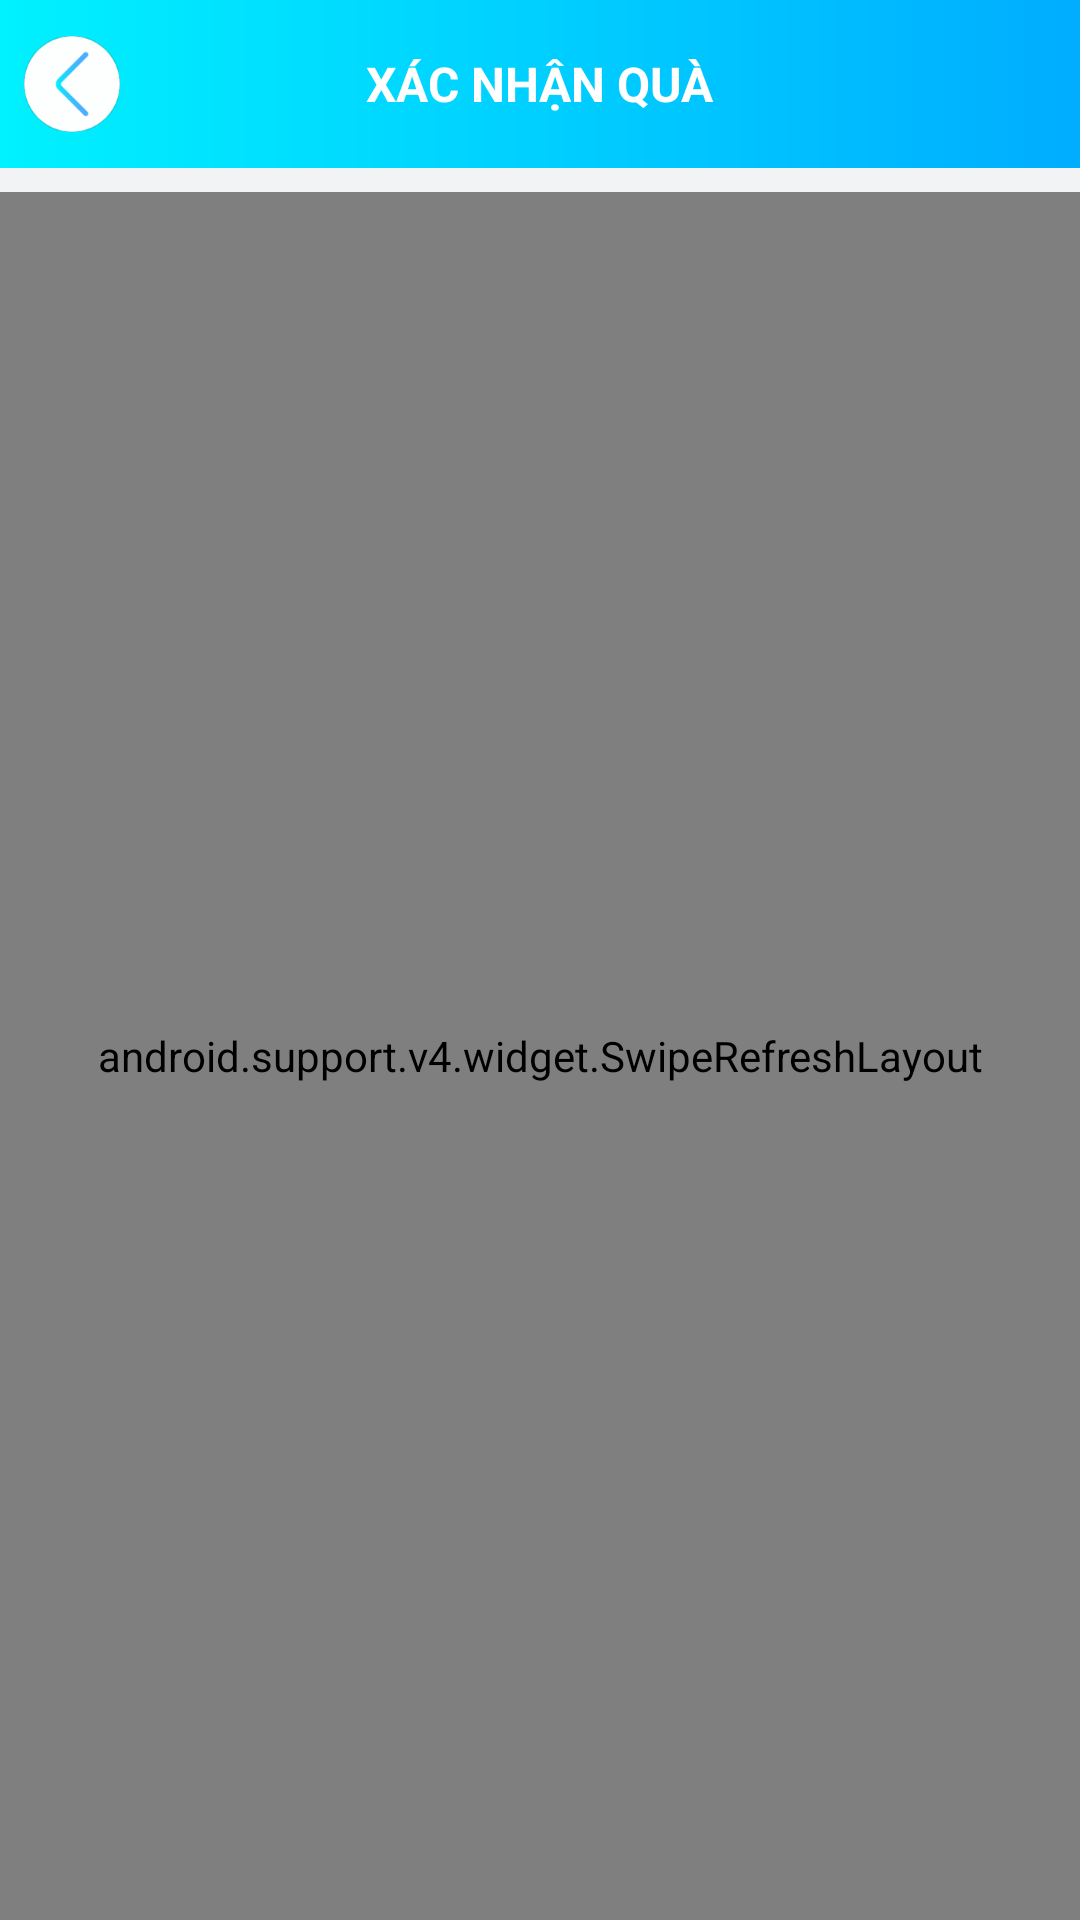

Screen size 1080px x 1920px. Icon name, then its box in pixels as BBox(x1, y1, x2, y2):
back: BBox(24, 36, 120, 132)
